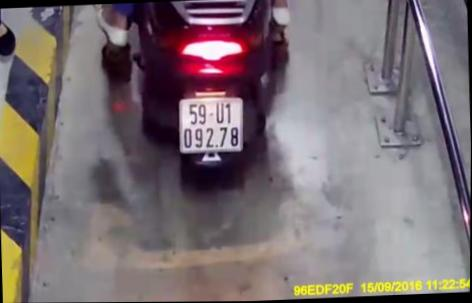LP: (175, 87, 248, 160)
